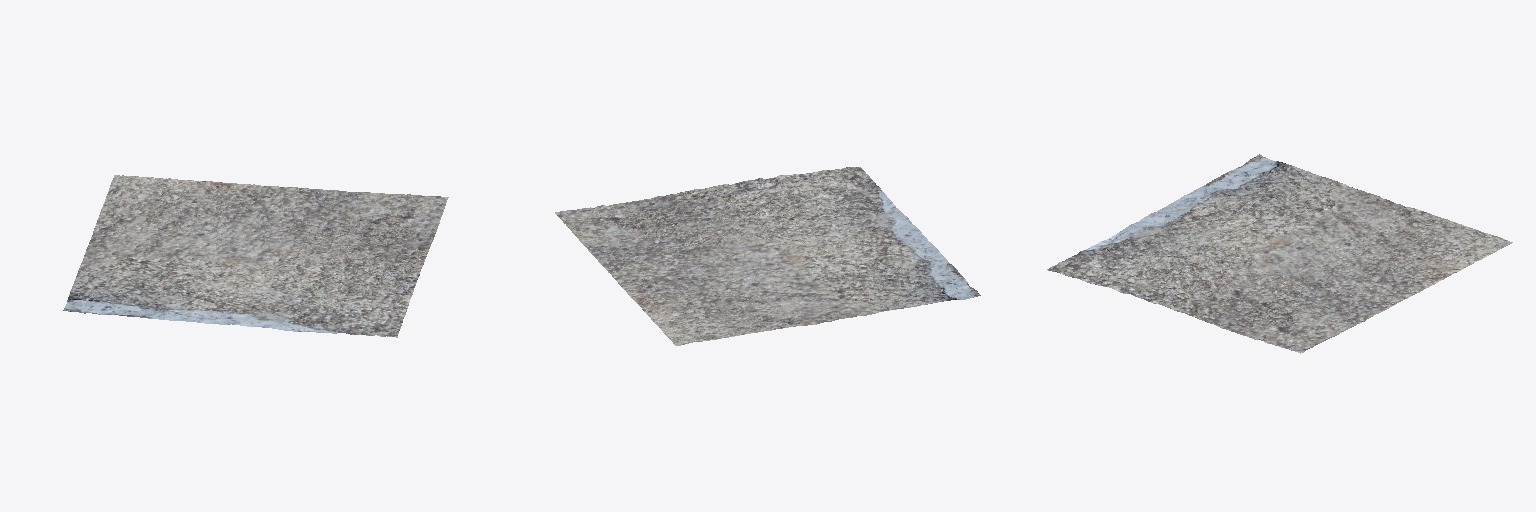
The picture shows the model from 3 angles: view 1: azimuth 30°, elevation 25°; view 2: azimuth 150°, elevation 25°; view 3: azimuth 270°, elevation 25°; orthographic projection.
Visible parts, largest first — view 1: texture_0; view 2: texture_0; view 3: texture_0.
Part boxes in pixels (left/top/right/bottom): texture_0: left=63, top=175, right=448, bottom=337; texture_0: left=555, top=167, right=980, bottom=345; texture_0: left=1047, top=154, right=1512, bottom=353.
Bounding box in the file's own units: 0.508 × 0.0096 × 0.5062.
1 materials, 1 textured.